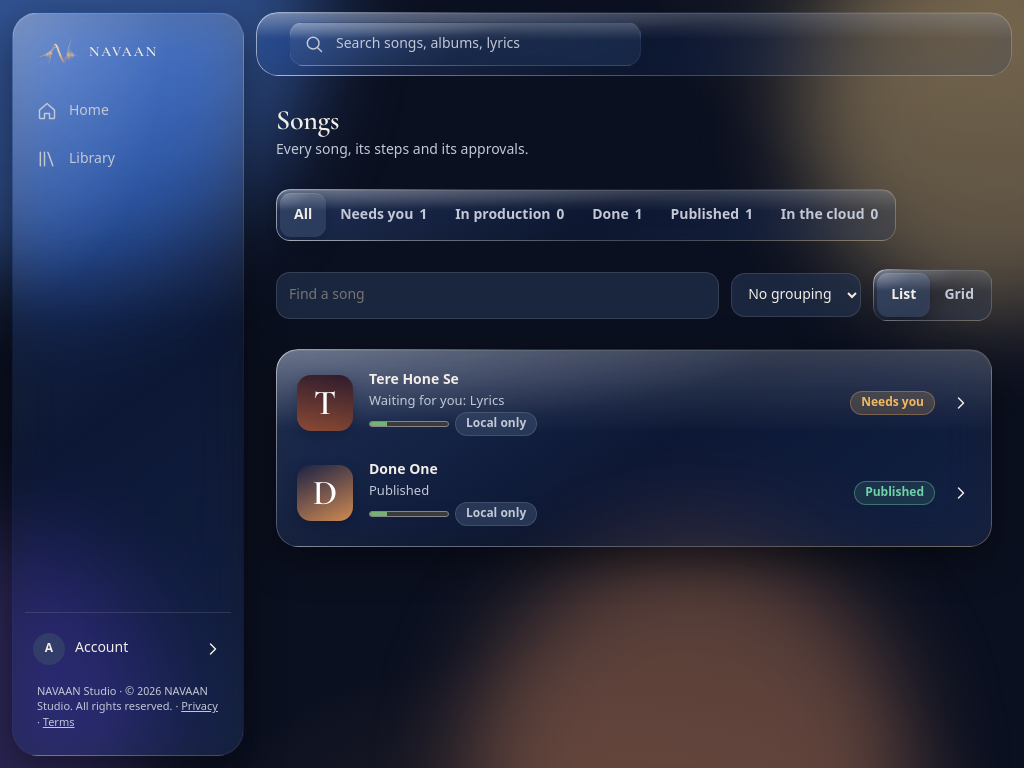
Test: Studio > Songs › lists music with its state and next action, and filters
The image size is (1024, 768).
Check: the link "T Tere Hone Se Waiting for you: Lyrics Local only Needs you" is shown, box [285,358,983,448]
Click the button "Done 1". click: (617, 215)
box: [578,193,656,237]
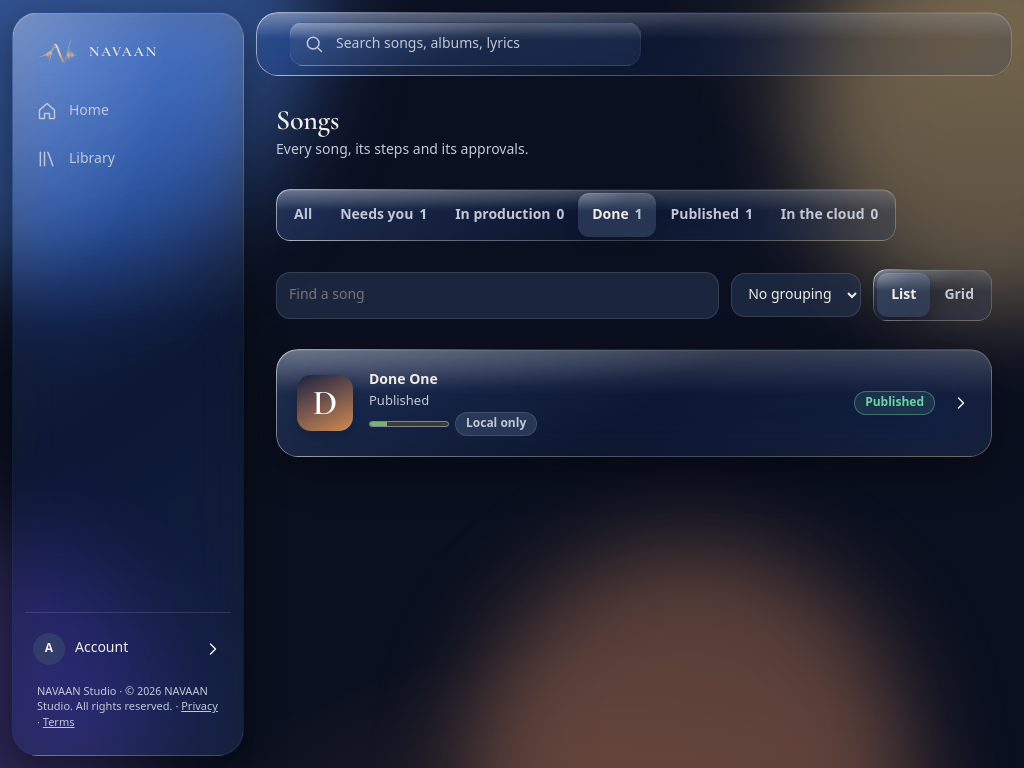
Check: the link "D Done One Published Local only Published" is shown, box [285,358,983,448]
Check: the link "Tere Hone Se" is gone
